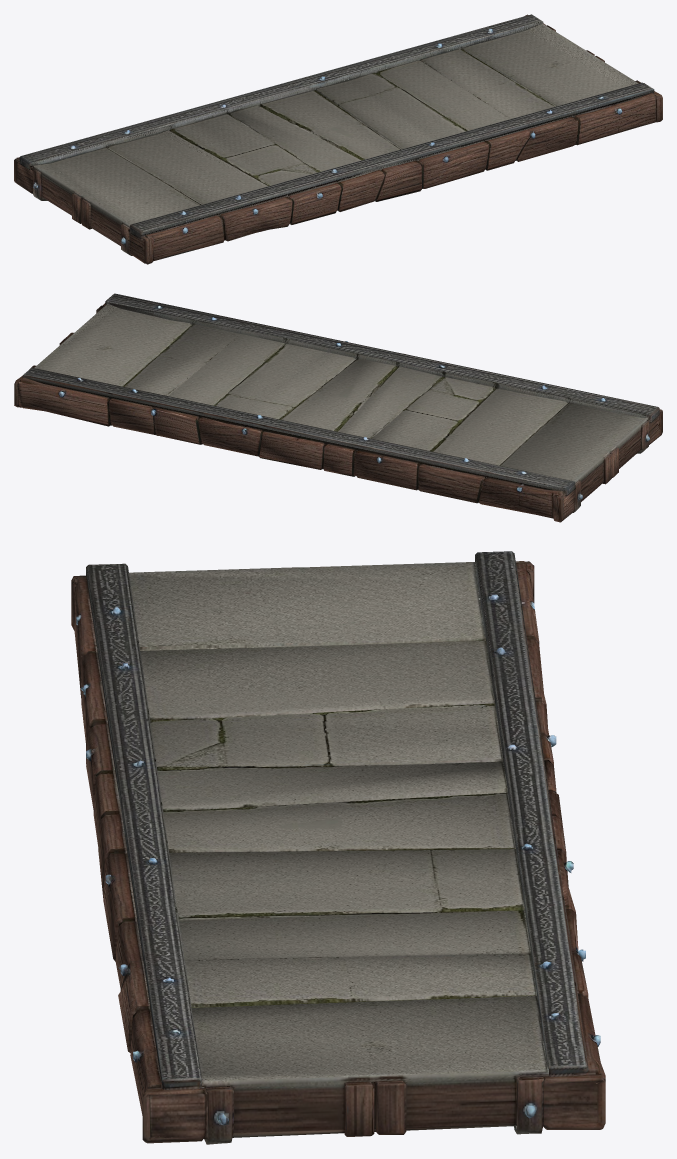
File: tripo_convert_79de1514-554d-4fa3-b03f-3fd42f7a0004.fbx
3 renders of one model, top to bottom at view 1: azimuth 30°, elevation 25°; view 2: azimuth 150°, elevation 25°; view 3: azimuth 270°, elevation 25°, orthographic. The views are drawn at different scales.
Parts seen in each view (by area): view 1: tripo_node_79de1514; view 2: tripo_node_79de1514; view 3: tripo_node_79de1514.
Boxes of the visible parts, x1=… form: tripo_node_79de1514: x1=14, y1=14, x2=662, y2=264; tripo_node_79de1514: x1=14, y1=293, x2=662, y2=522; tripo_node_79de1514: x1=71, y1=551, x2=605, y2=1144.
Bounding box in the file's own units: 0.998 × 0.0684 × 0.4238.
Materials: 1 (1 with a texture image).
